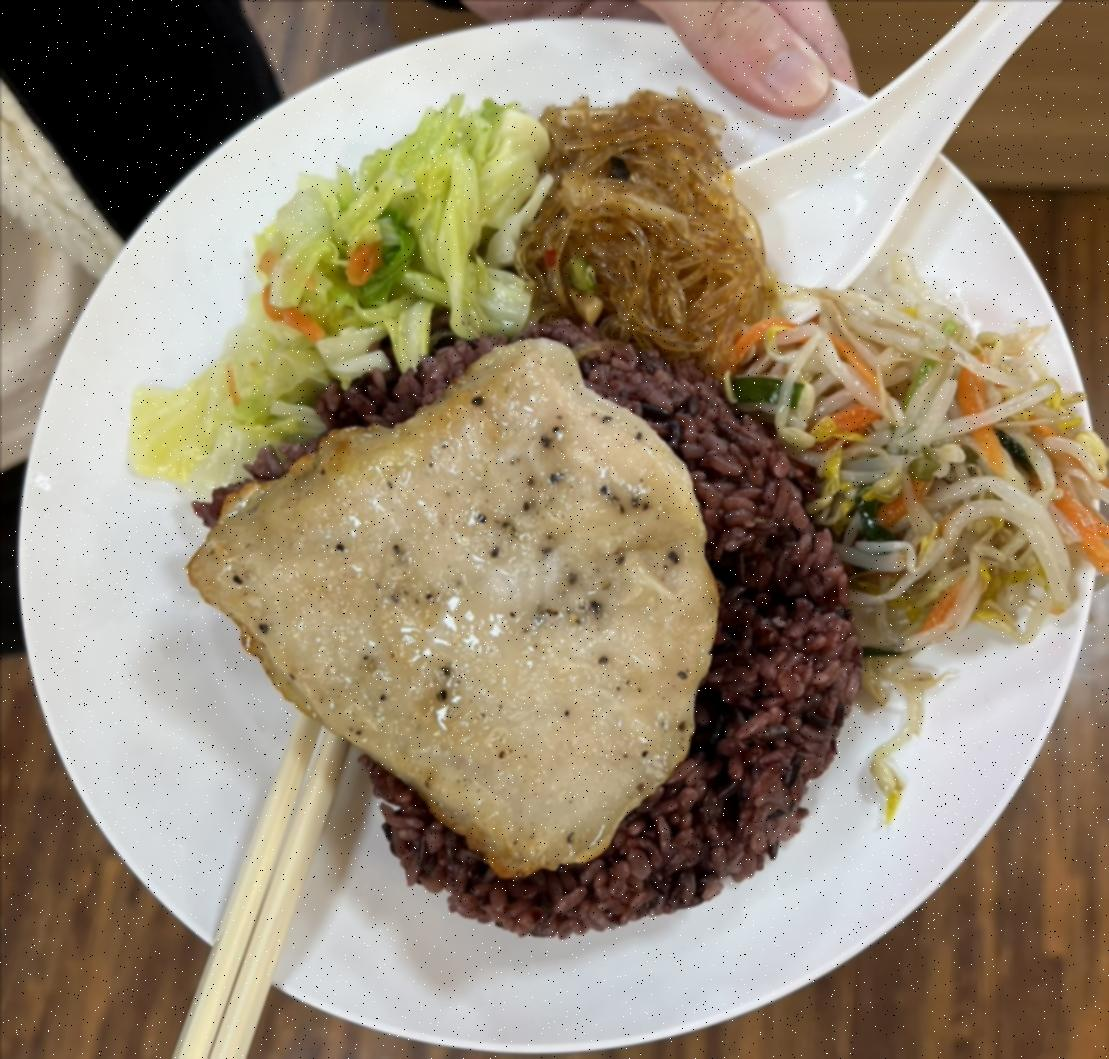big fried chicken leg: (0, 5, 1098, 1056)
braised fish: (309, 328, 841, 936)
braised fish fillet: (124, 93, 548, 477), (733, 280, 1104, 644), (518, 93, 778, 353)
braised pork: (177, 336, 729, 865)
